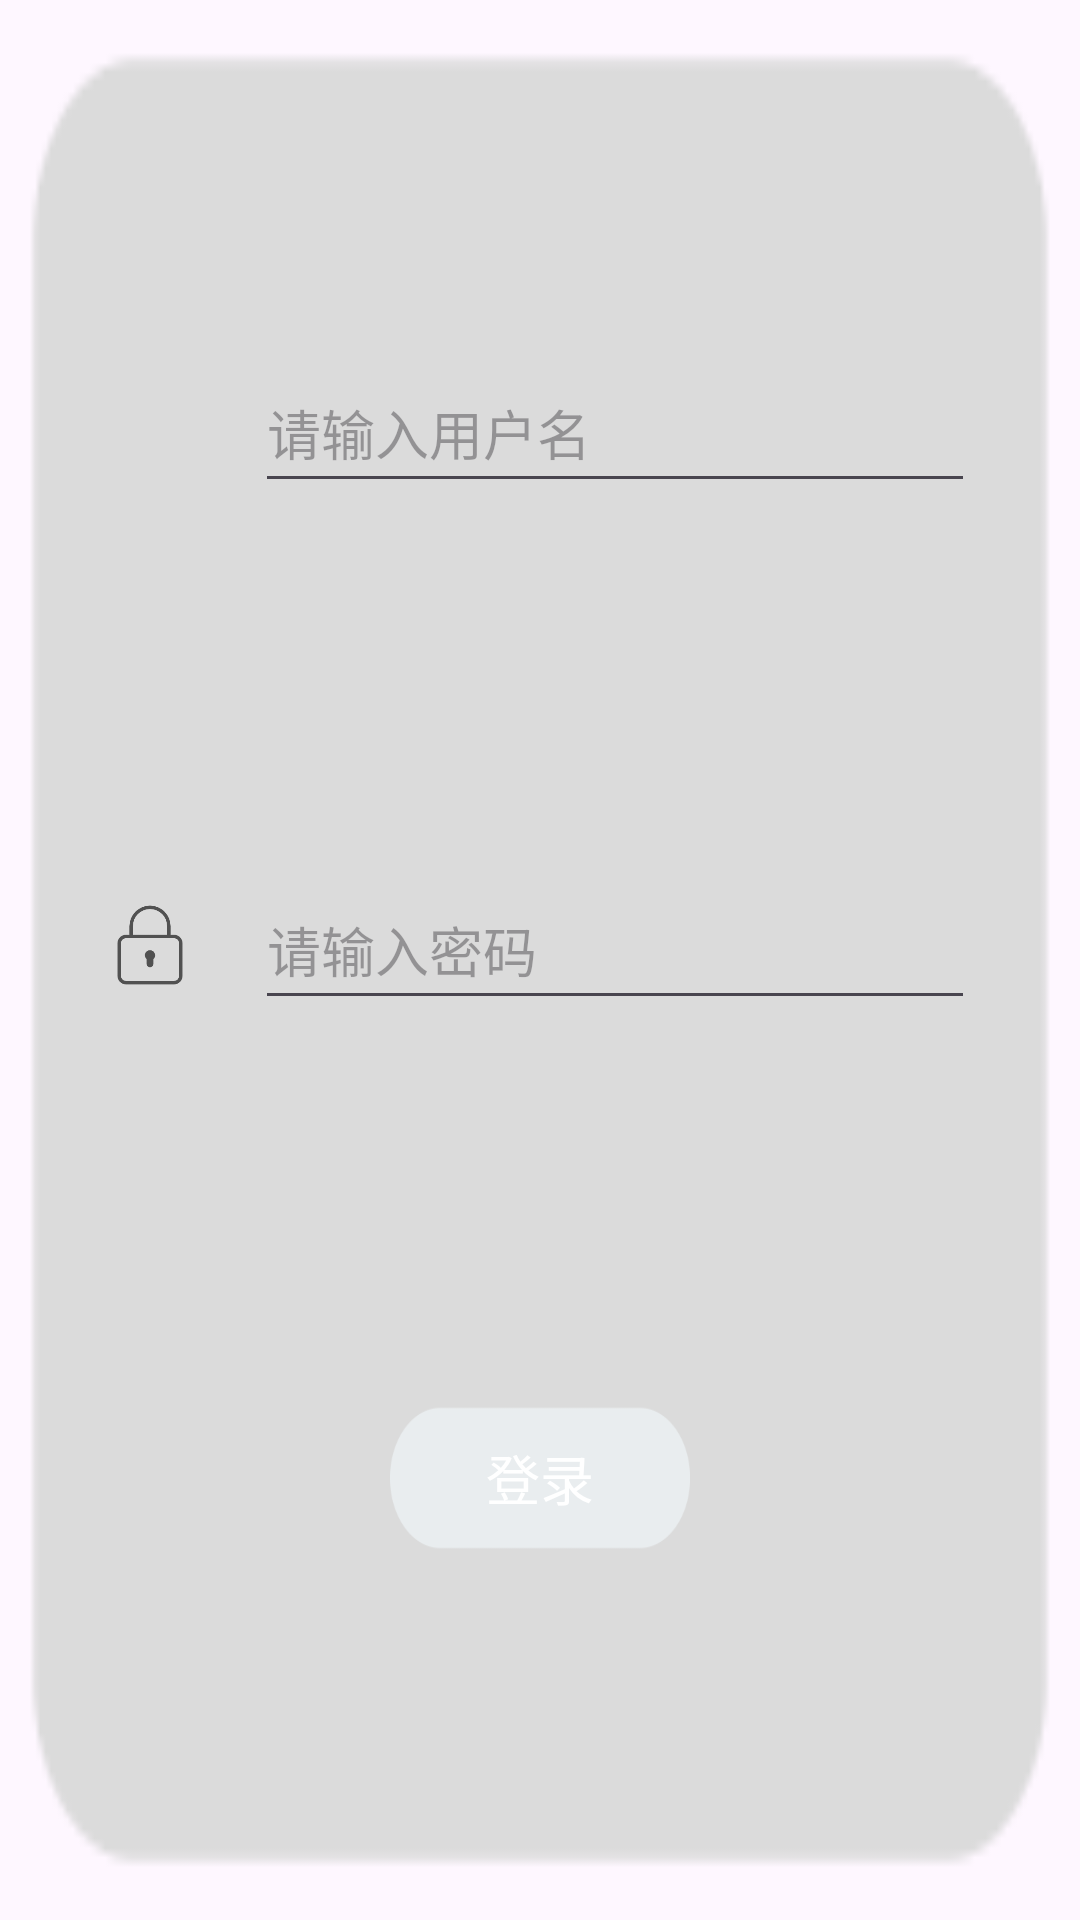

Icons on this 1080 x 1920 Android screen, each with its box as (x1, y1, x2, y2):
password: (117, 905, 183, 985)
